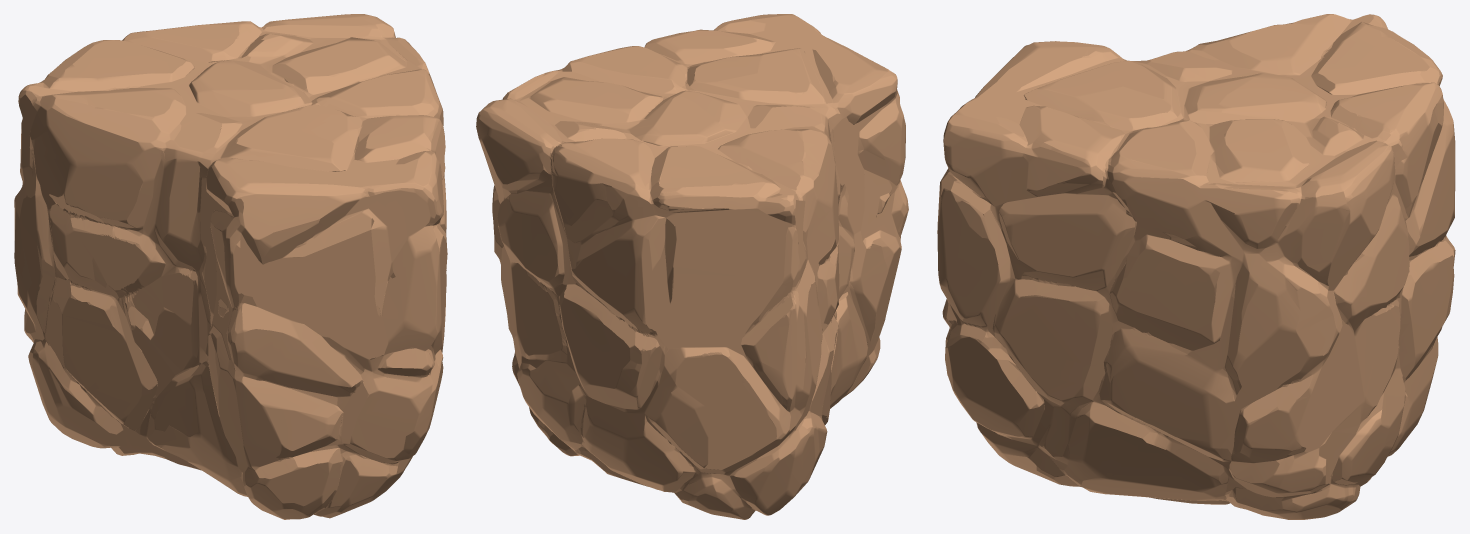
The picture shows the model from 3 angles, left to right: view 1: azimuth 30°, elevation 25°; view 2: azimuth 150°, elevation 25°; view 3: azimuth 270°, elevation 25°; orthographic projection. The views are drawn at different scales.
Visible parts, largest first — view 1: Mesh_15_LOD0; view 2: Mesh_15_LOD0; view 3: Mesh_15_LOD0.
Boxes of the visible parts, bbox=[...] form: Mesh_15_LOD0: bbox=[14, 14, 447, 519]; Mesh_15_LOD0: bbox=[476, 14, 908, 519]; Mesh_15_LOD0: bbox=[937, 14, 1455, 519].
Size of what is drawn, in the model's own units: 3289 by 3179 by 3835.
